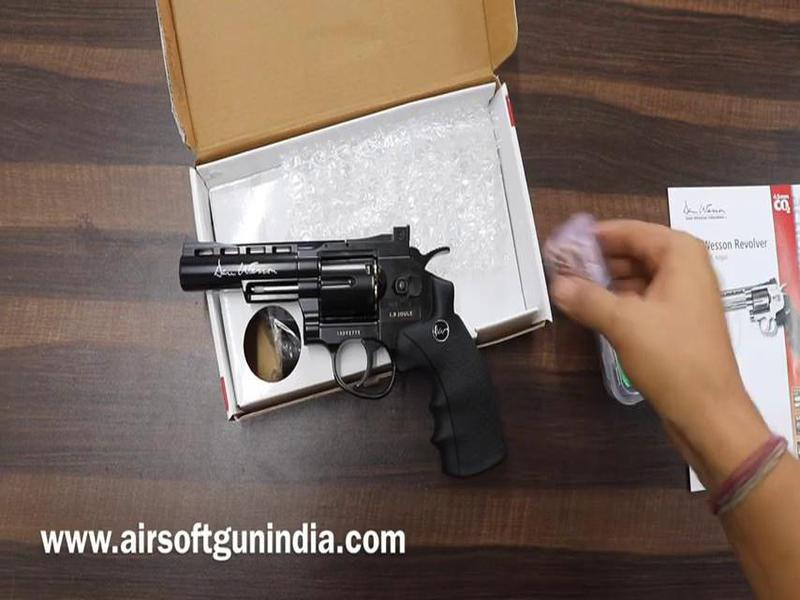Revolver: (182, 220, 532, 501)
